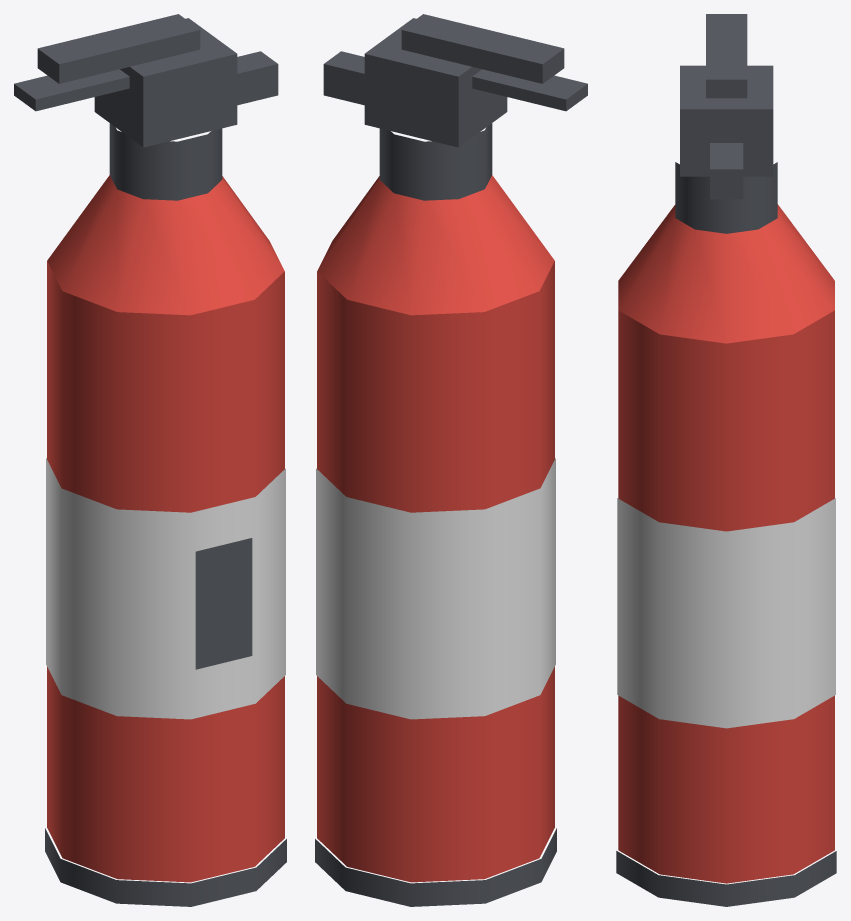
The model's file is fac_extinguisher.glb.
The picture shows the model from 3 angles, left to right: view 1: azimuth 30°, elevation 25°; view 2: azimuth 150°, elevation 25°; view 3: azimuth 270°, elevation 25°; orthographic projection. The views are drawn at different scales.
Parts seen in each view (by area): view 1: Body; view 2: Body; view 3: Body.
Part boxes in pixels (x1,y1,x2,y2): Body: (14,14,286,906); Body: (315,14,587,906); Body: (616,14,836,906).
Size of the model in its own units: 0.131 by 0.421 by 0.1067.
